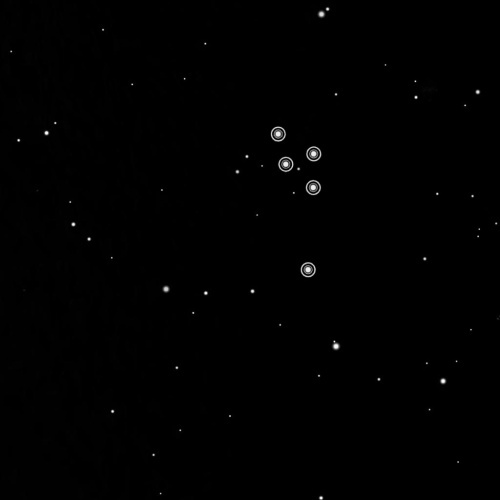delphinus: (261, 115, 329, 282)
